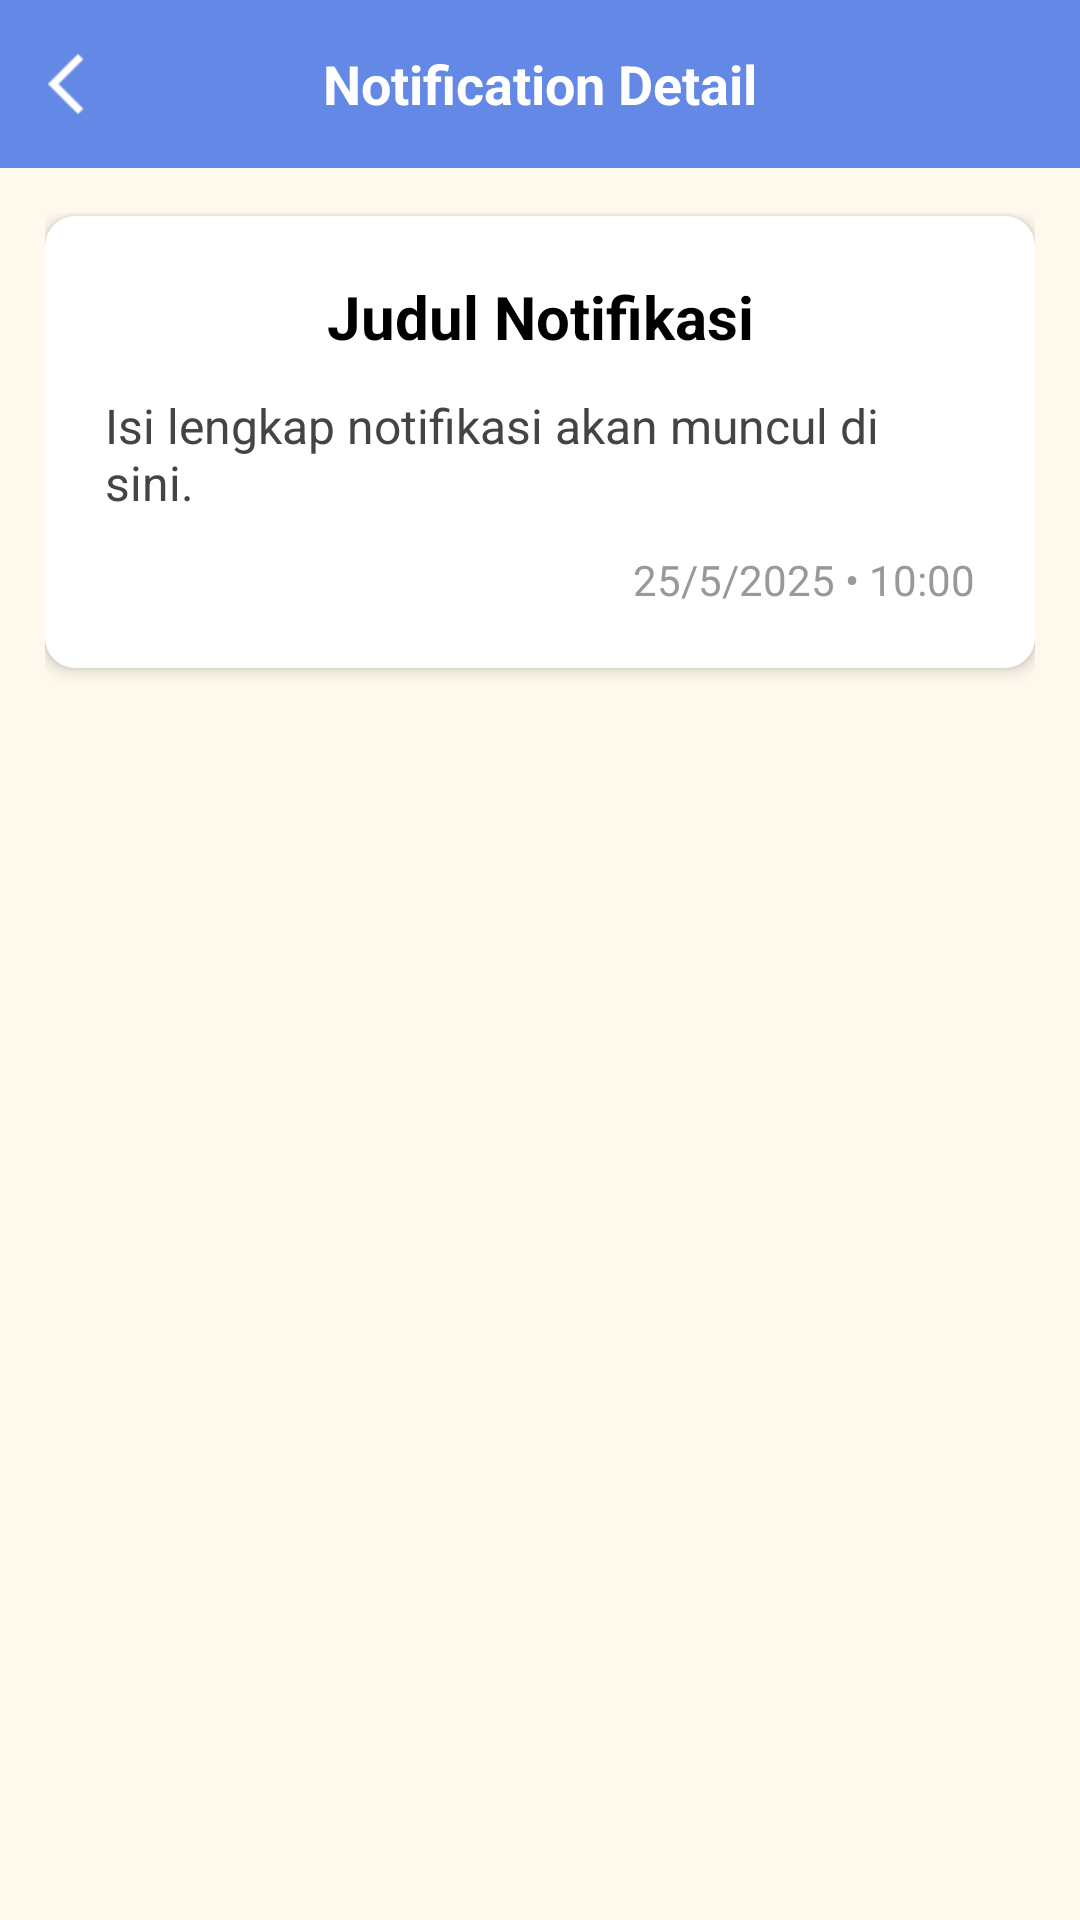

Icons on this 1080x1920 Android screen, each with its box as Rect(x1, y1, x2, y2):
back putih: Rect(48, 54, 84, 114)
